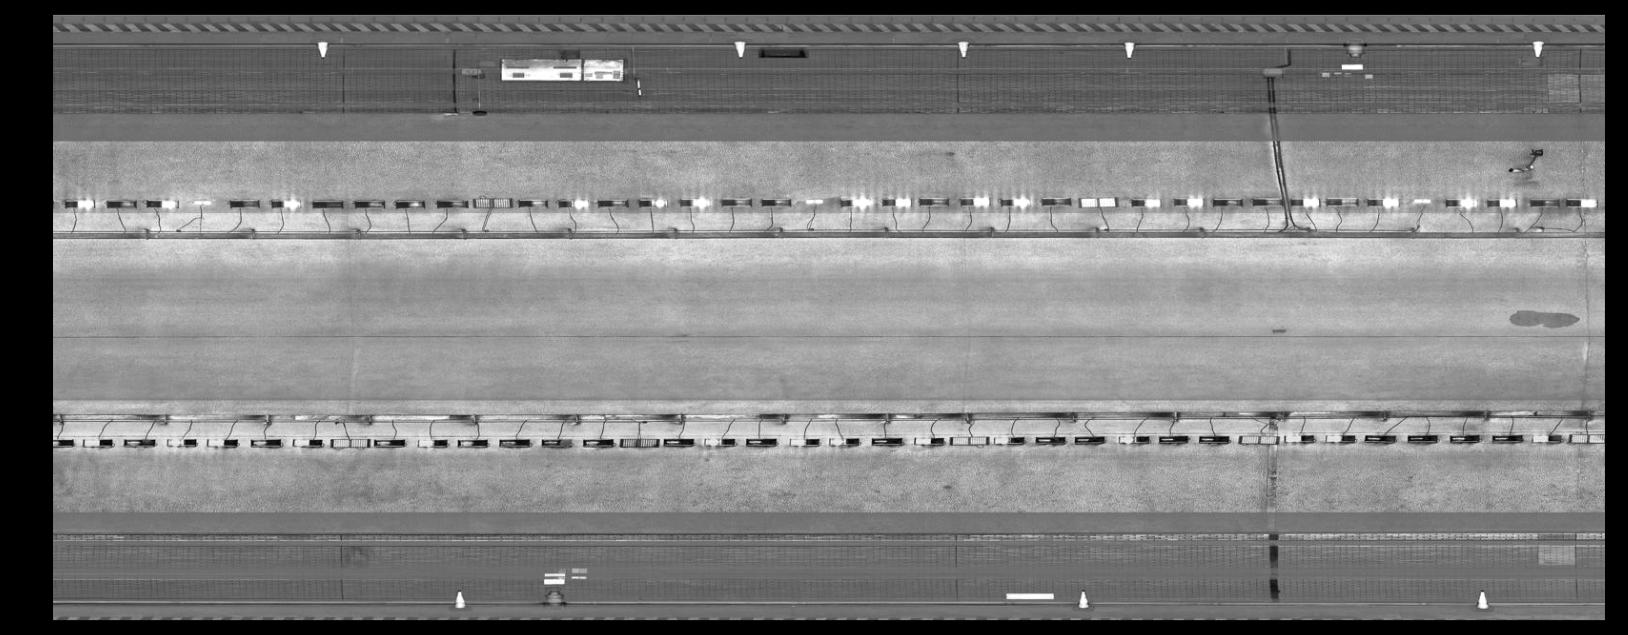light: (1234, 430, 1282, 447), (1074, 193, 1120, 211), (616, 434, 664, 449), (328, 434, 373, 450), (470, 194, 514, 211), (836, 192, 874, 211), (1565, 429, 1603, 447), (947, 433, 992, 448), (1129, 193, 1167, 211), (287, 434, 327, 450), (1170, 193, 1208, 211), (995, 192, 1032, 210), (432, 195, 472, 211), (538, 435, 575, 451), (390, 195, 430, 211), (76, 435, 115, 450), (496, 434, 533, 450), (415, 434, 452, 450), (1442, 195, 1481, 211), (349, 195, 387, 211), (267, 195, 305, 211), (908, 432, 947, 447), (868, 433, 906, 448), (119, 435, 158, 450), (141, 195, 182, 210), (700, 434, 740, 448), (1285, 192, 1323, 208), (915, 193, 952, 209), (308, 195, 346, 211), (226, 195, 264, 211), (825, 433, 863, 448), (371, 435, 408, 450), (203, 434, 241, 449), (1323, 193, 1362, 208), (1527, 430, 1567, 444), (1194, 432, 1233, 446), (1154, 432, 1193, 446), (1114, 432, 1154, 446), (62, 195, 97, 212), (878, 194, 915, 210), (1069, 432, 1108, 446), (1037, 193, 1073, 209), (555, 195, 591, 211), (248, 435, 283, 450), (1402, 431, 1442, 444), (1361, 431, 1399, 445), (1321, 431, 1358, 445), (163, 435, 200, 449), (456, 435, 490, 450), (1562, 195, 1601, 209), (1482, 195, 1521, 209), (1488, 431, 1527, 444), (676, 195, 712, 210), (515, 195, 551, 210), (102, 196, 138, 211), (1362, 194, 1401, 208), (786, 435, 824, 448), (1526, 195, 1564, 209), (742, 435, 780, 448), (957, 194, 992, 209), (577, 436, 617, 448), (758, 195, 794, 209), (594, 195, 630, 209), (1281, 431, 1318, 444), (1032, 433, 1068, 446), (991, 433, 1027, 446), (660, 435, 697, 448), (1247, 195, 1285, 208), (718, 195, 754, 209), (1446, 431, 1482, 444), (1209, 195, 1246, 208), (636, 195, 670, 209), (189, 196, 215, 208), (53, 434, 75, 447), (802, 196, 826, 205), (1410, 195, 1436, 202)
